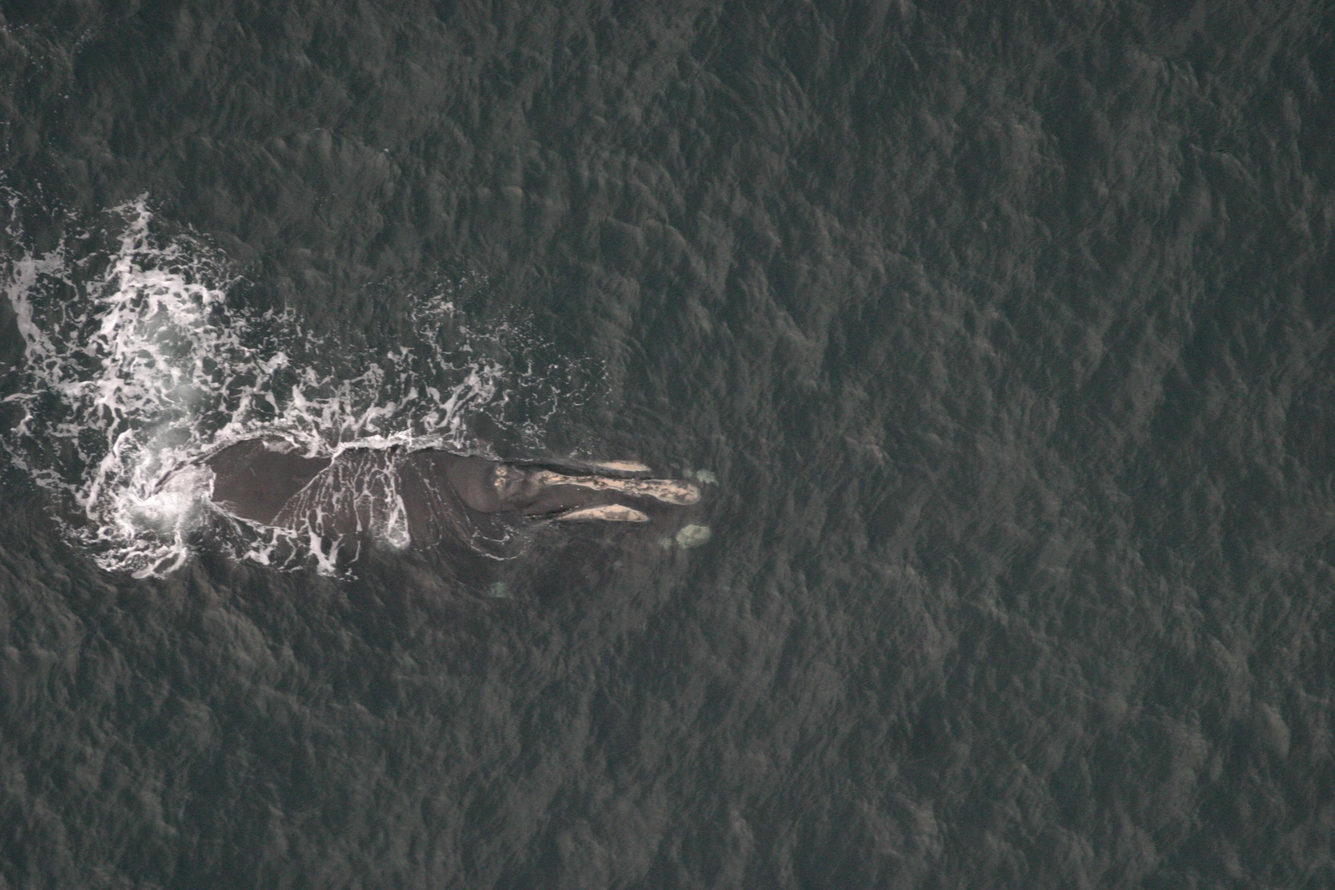whale: (100, 420, 742, 632)
